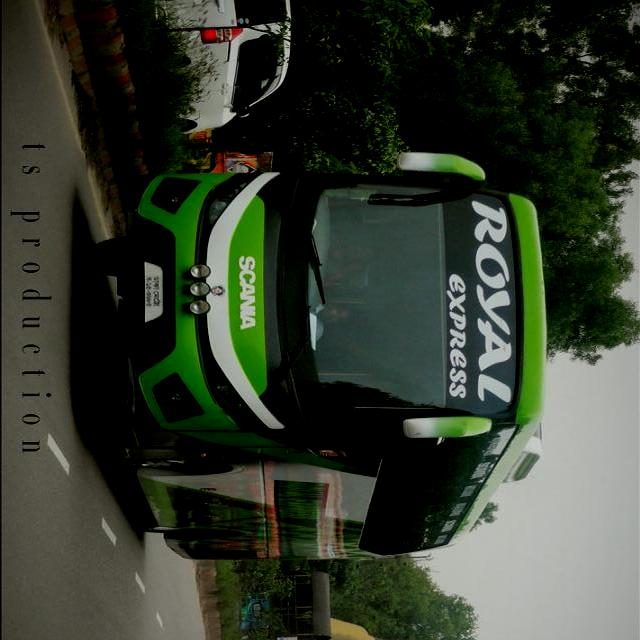bus: (90, 151, 549, 562)
